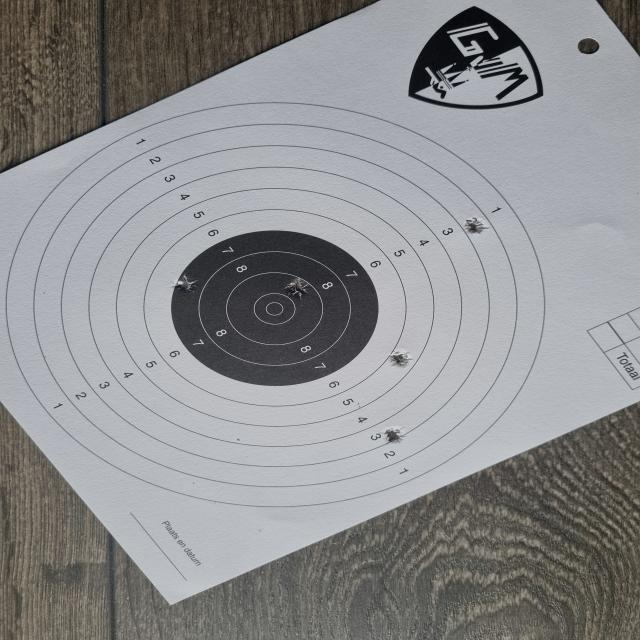2: (464, 217, 488, 236)
3: (381, 426, 406, 445)
6: (390, 348, 416, 368)
7: (173, 274, 196, 294)
9: (286, 279, 308, 298)
Target: (0, 101, 548, 508)
black_contour: (170, 230, 378, 386)
